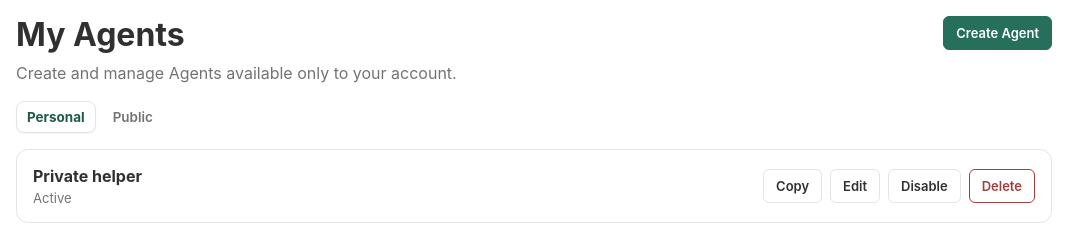
AgentManagementPage › switches tabs by filtering the loaded agents without refetching
This screenshot has width=1069, height=240.
Expected: the text "Private helper" is shown, [33, 166, 142, 186]
Expected: the text "Global helper" is not shown
Click the tab "Public". click: (133, 117)
box: [102, 101, 164, 133]
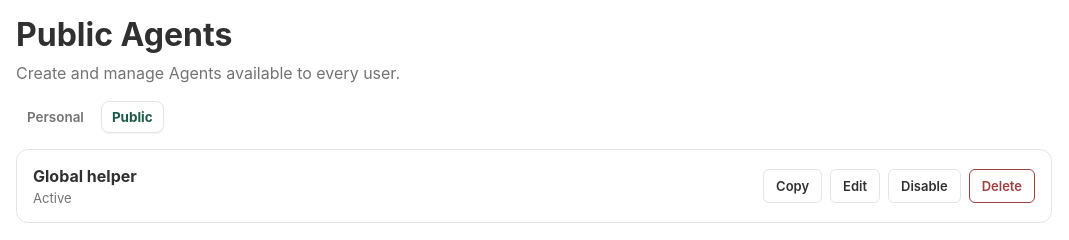
Expected: the text "Global helper" is shown, [33, 166, 137, 186]
Expected: the text "Private helper" is gone
